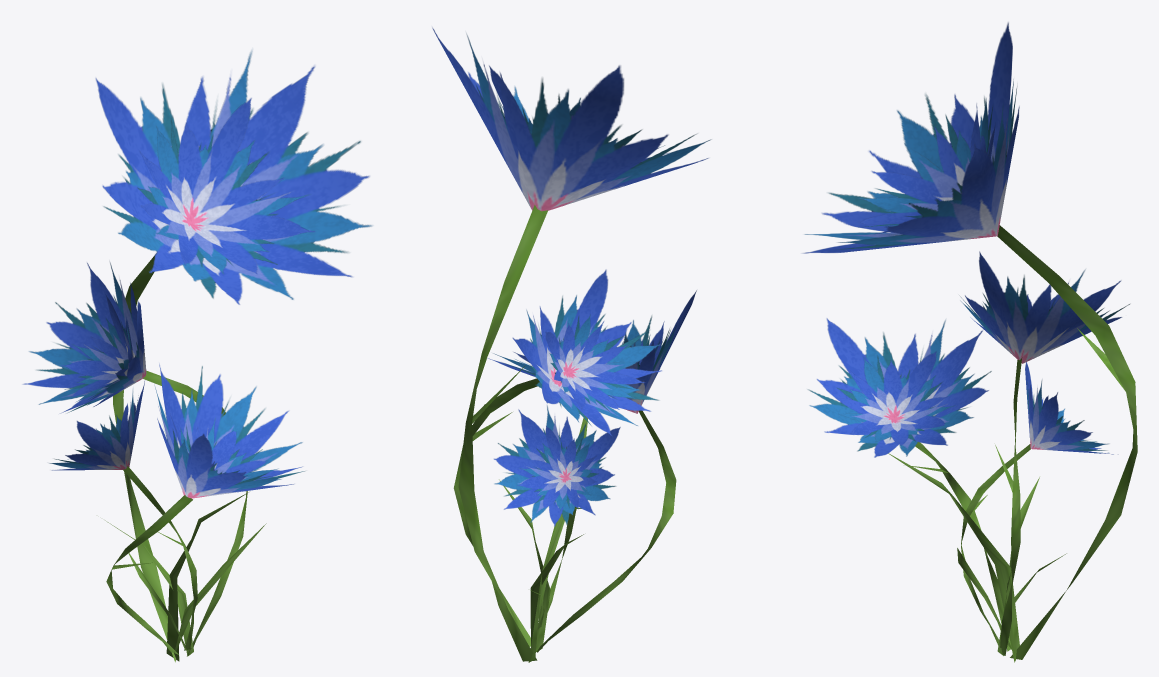
File: Plant_4.glb
The picture shows the model from 3 angles, left to right: view 1: azimuth 30°, elevation 25°; view 2: azimuth 150°, elevation 25°; view 3: azimuth 270°, elevation 25°; orthographic projection. The views are drawn at different scales.
Visible parts, largest first — view 1: Plant_4; view 2: Plant_4; view 3: Plant_4.
Boxes of the visible parts, x1,y1,x2,y2 form: Plant_4: (22, 50, 372, 662); Plant_4: (432, 27, 711, 662); Plant_4: (802, 22, 1137, 662).
Bounding box in the file's own units: 0.7578 × 1.56 × 0.8296.
1 material, 1 textured.
